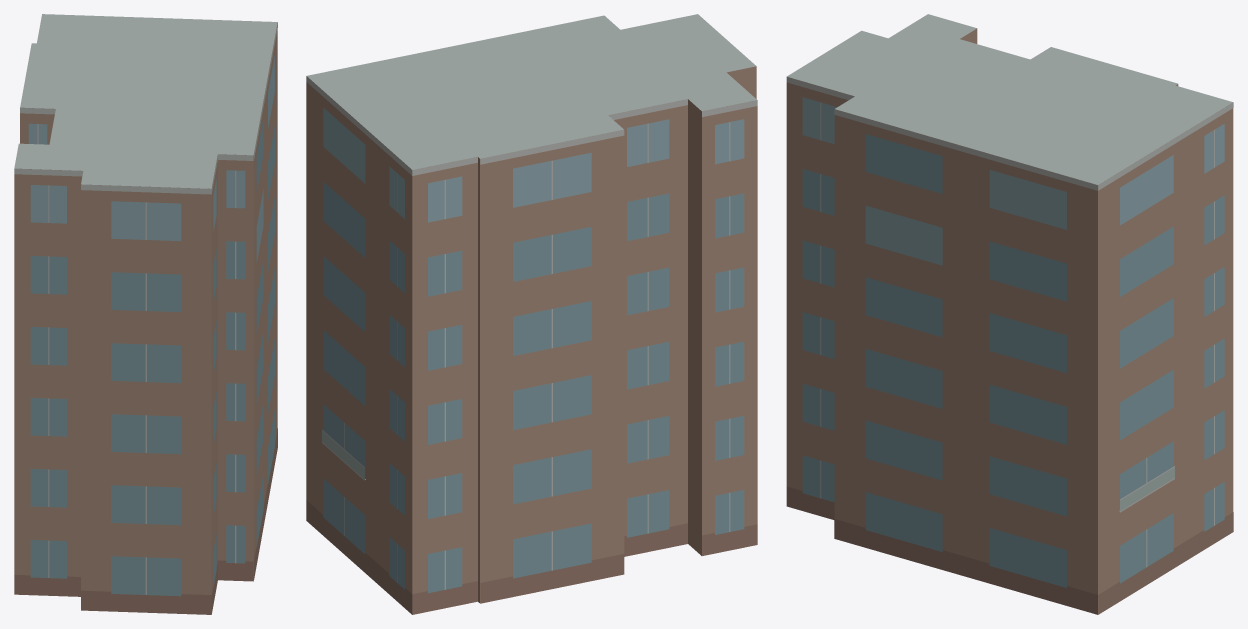
File: survey-upis-32542503.glb
3 renders of one model, left to right at view 1: azimuth 30°, elevation 25°; view 2: azimuth 150°, elevation 25°; view 3: azimuth 270°, elevation 25°, orthographic. The views are drawn at different scales.
Parts seen in each view (by area): view 1: survey-upis-32542503.tmp; view 2: survey-upis-32542503.tmp; view 3: survey-upis-32542503.tmp.
Boxes of the visible parts, x1=… form: survey-upis-32542503.tmp: x1=14, y1=14, x2=277, y2=614; survey-upis-32542503.tmp: x1=306, y1=14, x2=757, y2=614; survey-upis-32542503.tmp: x1=786, y1=14, x2=1233, y2=614.
Bounding box in the file's own units: 15.64 × 18.3 × 17.25.
